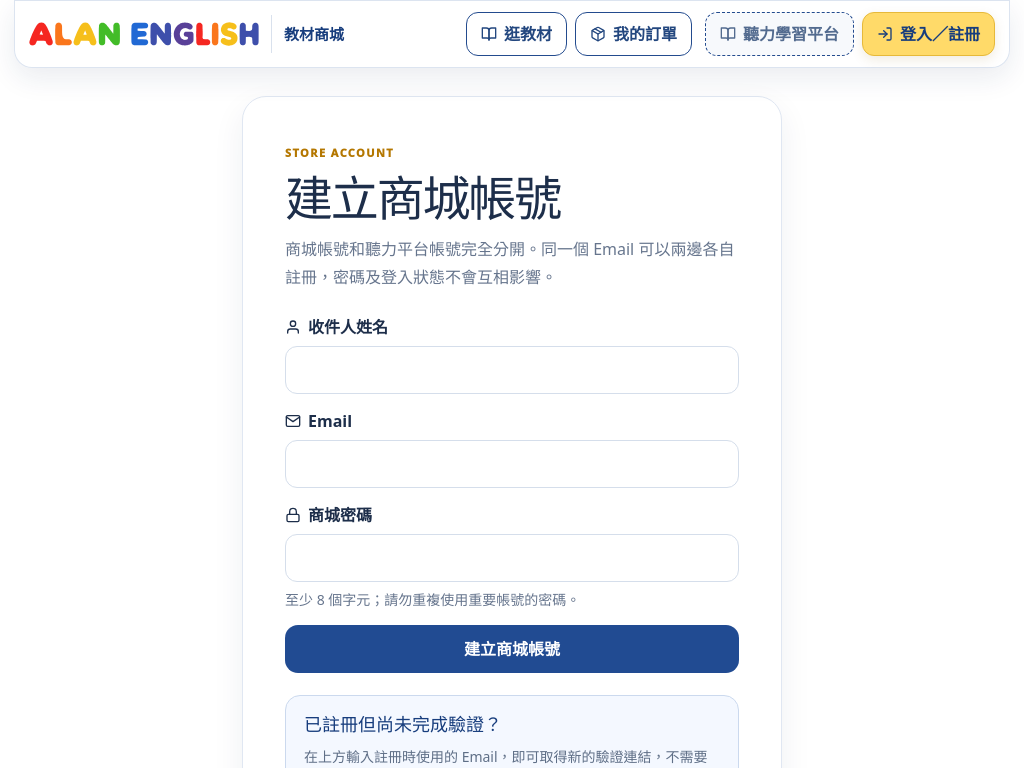
Test: StoreAuthPage 商城驗證信 › 未驗證的商城帳號可從註冊頁重新寄送驗證信
Type "Buyer@Example.com" into the field labelled "Email" at (512, 464), box [285,440,739,488]
(page scrolled)
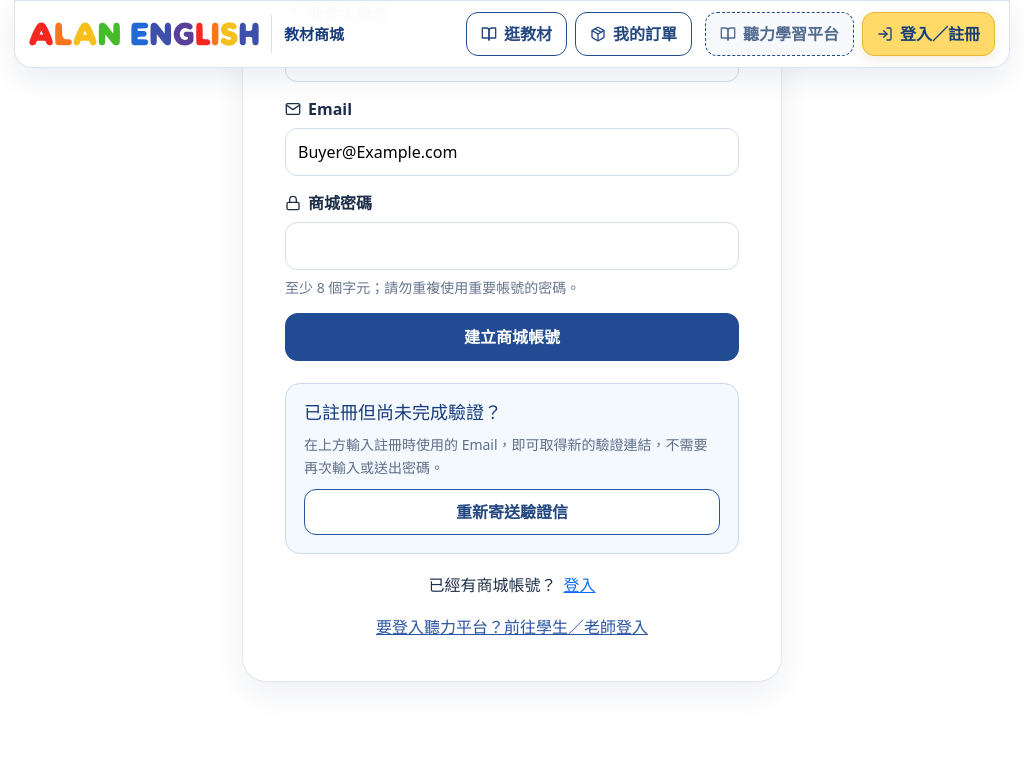
Check: the button "重新寄送驗證信" is enabled
Click the button "重新寄送驗證信" at (512, 512), box [304,489,720,535]
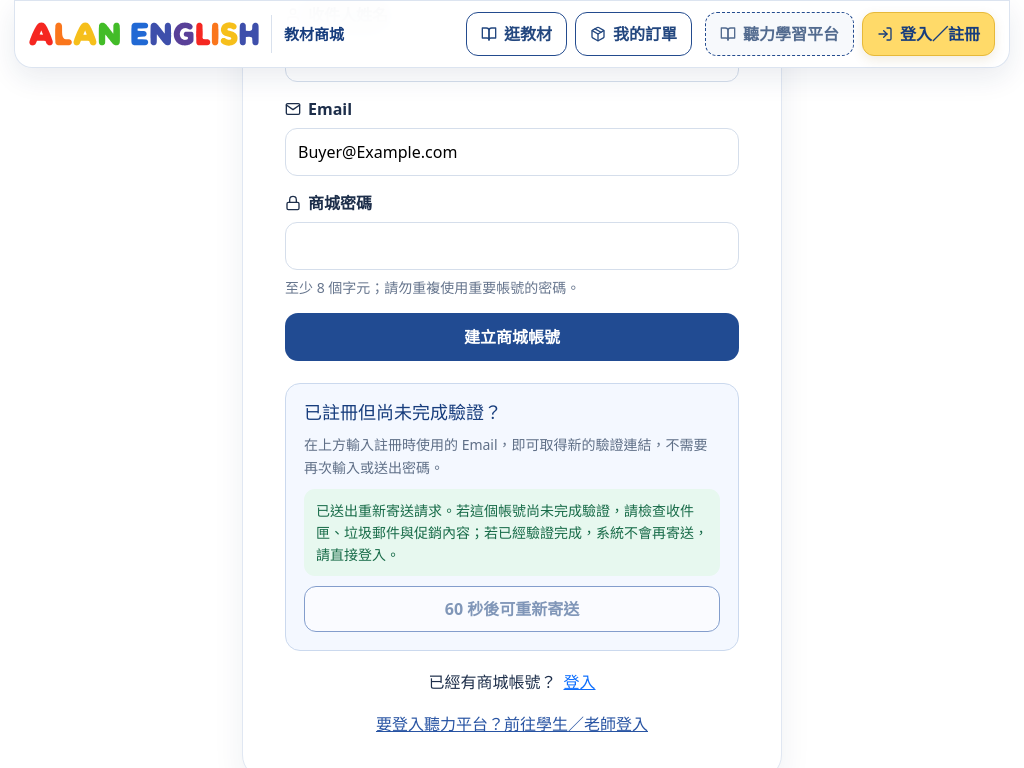
Check: the message shows "已送出重新寄送請求", box [316,501,708,564]
Check: the button "60 秒後可重新寄送" is disabled, box [304,586,720,632]
